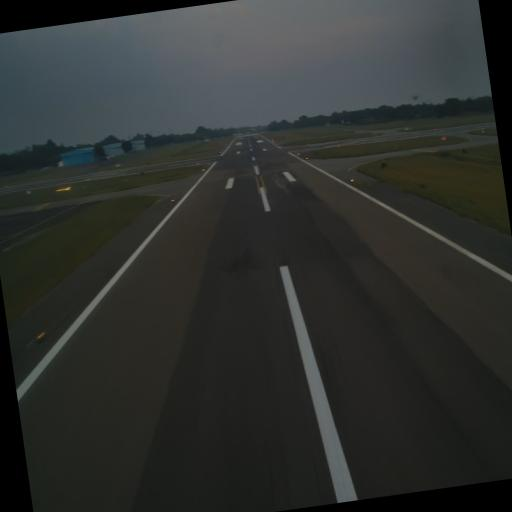on: (34, 327, 47, 344), (168, 196, 176, 206), (350, 177, 355, 184)
